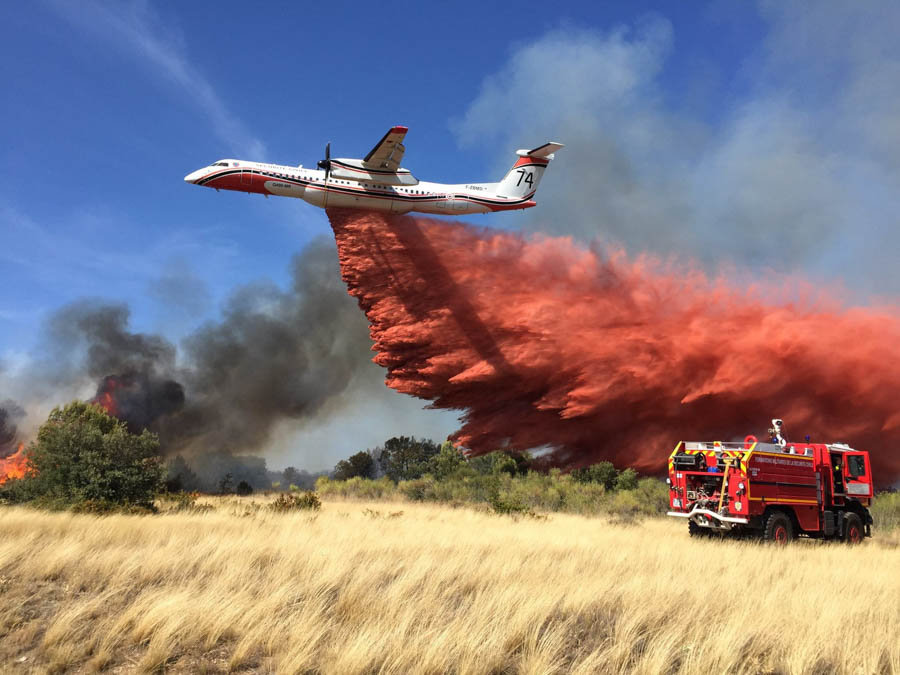Aeronef_de_service: (180, 112, 567, 229)
